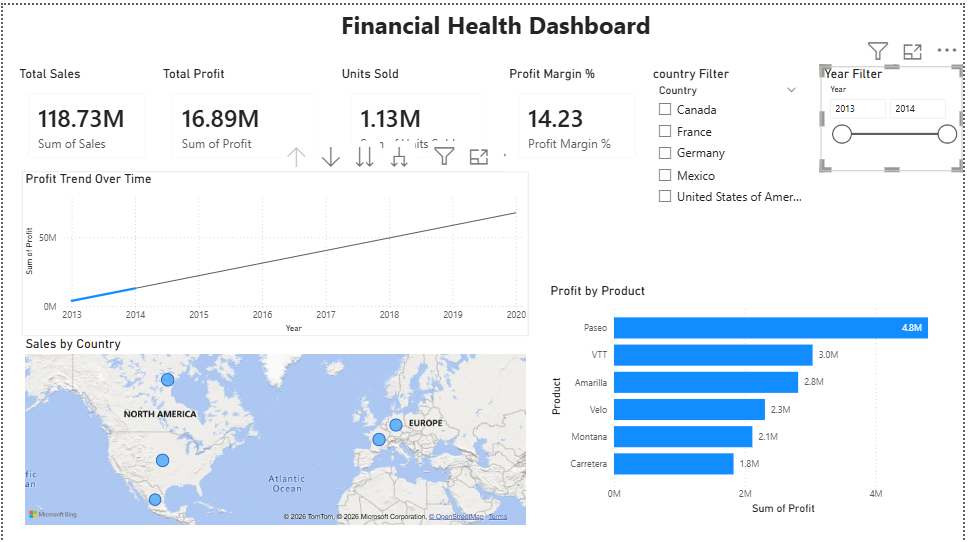

The page's visual inventory and layout, read from the dashboard file:
{"tool":"powerbi","page":{"name":"Executive Dashboard","canvas":[1280,720],"ordinal":0},"visuals":[{"type":"cardVisual","title":"Total Sales","fields":{"Data":["Sum(financials. Sales)"]},"box":[17.1,81.4,191.4,140],"z":0},{"type":"cardVisual","title":"Total Profit","fields":{"Data":["Sum(financials.Profit)"]},"box":[208.6,81.4,224.3,140],"z":1000},{"type":"cardVisual","title":"Units Sold","fields":{"Data":["Sum(financials.Units Sold)"]},"box":[447.1,81.4,210,140],"z":2000},{"type":"lineChart","title":"Profit Trend Over Time","fields":{"Category":["financials.Date.Variation.Date Hierarchy.Year","financials.Date.Variation.Date Hierarchy.Quarter","financials.Date.Variation.Date Hierarchy.Month","financials.Date.Variation.Date Hierarchy.Day"],"Y":["Sum(financials.Profit)"]},"box":[24.3,221.4,677.1,220],"z":3000},{"type":"map","title":"Sales by Country","fields":{"Category":["financials.Country"],"Size":["Sum(financials. Sales)"]},"box":[24.3,441.4,677.1,257.1],"z":4000},{"type":"clusteredBarChart","title":"Profit by Product","fields":{"Category":["financials.Product"],"Y":["Sum(financials.Profit)"]},"box":[724,256,556,314],"z":5000},{"type":"slicer","title":"country Filter","fields":{"Values":["financials.Country"]},"box":[862,54,208,194],"z":6000},{"type":"slicer","title":"Year Filter","fields":{"Values":["financials.Year"]},"box":[1090,81.4,190,140],"z":7000},{"type":"cardVisual","title":"Profit Margin %","fields":{"Data":["financials.Profit Margin %"]},"box":[670,81.4,191.4,140],"z":8000},{"type":"textbox","box":[160,0,994.3,61.4],"z":10000},{"type":"textbox","box":[724,570,556,150],"z":10001}]}

Visuals, with their boxes in screenshot pixels (x1, y1, x2, y2), scaled from the page's 1280x720 canvas onto the 973x542 screenshot:
"Total Sales" cardVisual: x1=13, y1=61, x2=158, y2=167
"Total Profit" cardVisual: x1=159, y1=61, x2=329, y2=167
"Units Sold" cardVisual: x1=340, y1=61, x2=499, y2=167
"Profit Trend Over Time" lineChart: x1=18, y1=167, x2=533, y2=332
"Sales by Country" map: x1=18, y1=332, x2=533, y2=526
"Profit by Product" clusteredBarChart: x1=550, y1=193, x2=972, y2=429
"country Filter" slicer: x1=655, y1=41, x2=813, y2=187
"Year Filter" slicer: x1=829, y1=61, x2=972, y2=167
"Profit Margin %" cardVisual: x1=509, y1=61, x2=655, y2=167
textbox: x1=122, y1=0, x2=877, y2=46
textbox: x1=550, y1=429, x2=972, y2=541
